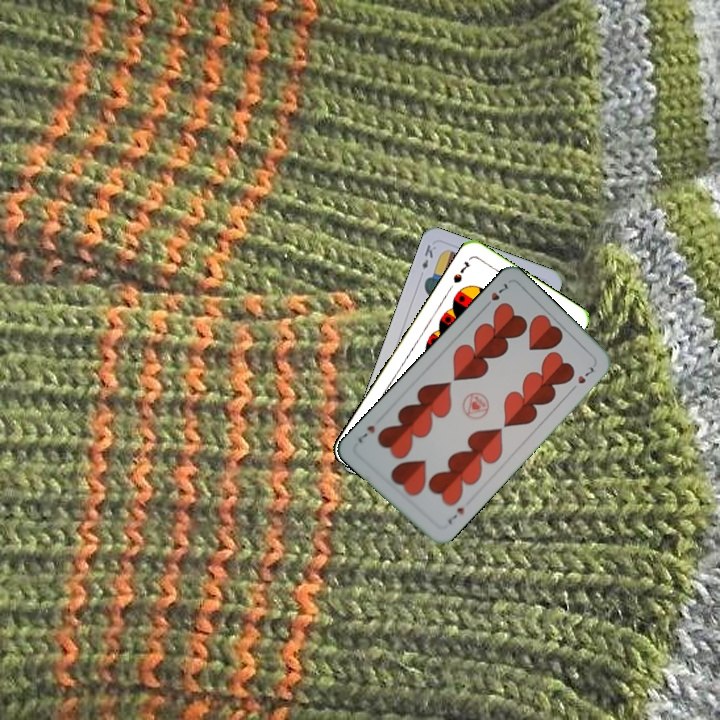EK: (418, 240, 439, 272)
H7: (480, 279, 512, 312), (444, 503, 467, 526)
S7: (449, 257, 473, 286)
